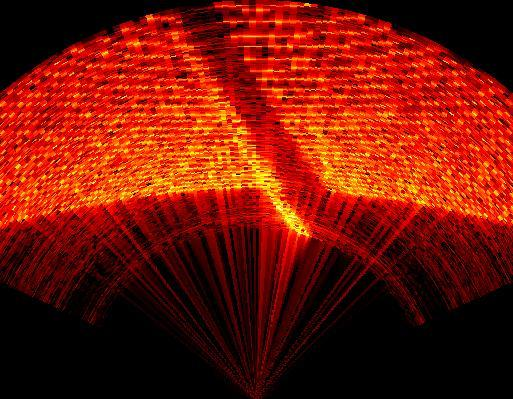pipe: (159, 5, 334, 239)
